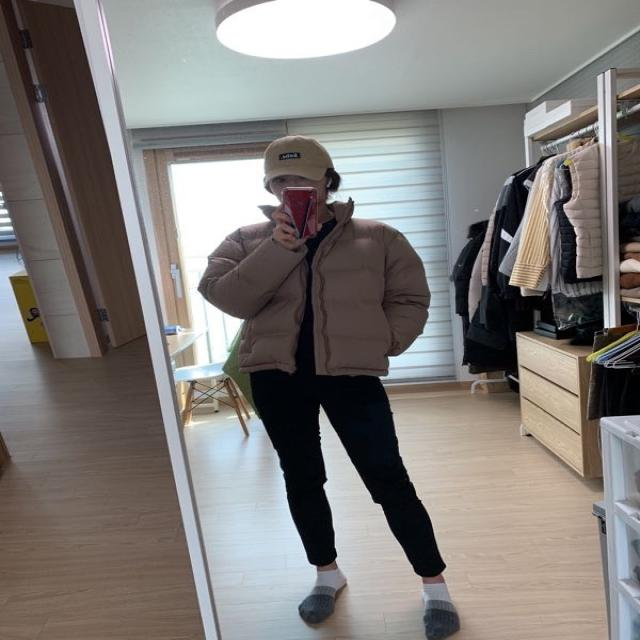denimpants: (262, 342, 446, 576)
padding: (198, 194, 430, 376)
